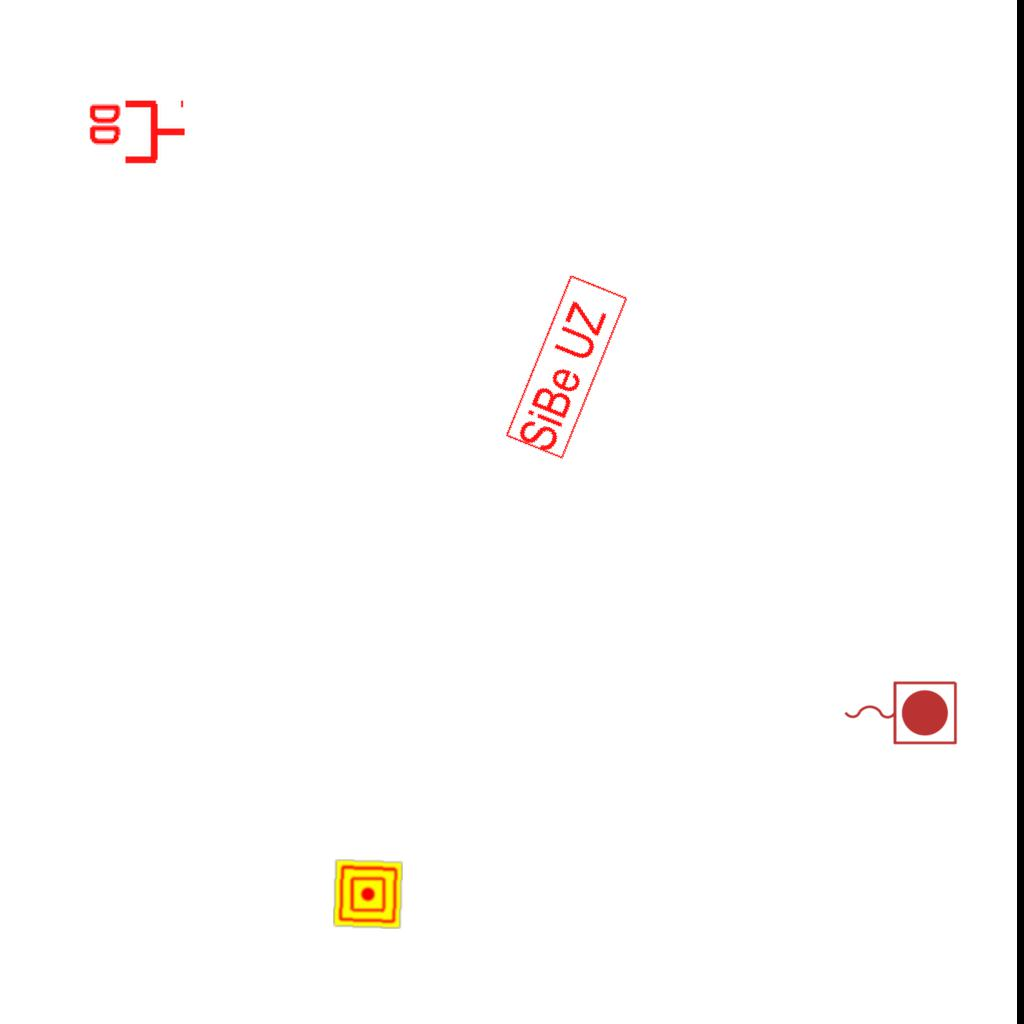Datenanschluss_zweifach: (85, 99, 188, 168)
NAM-Nichtautomatischer_Melder: (333, 859, 403, 929)
Zentrale_Sicherheitsbeleuchtung: (503, 271, 631, 462)
Zugtaster: (839, 676, 961, 748)
